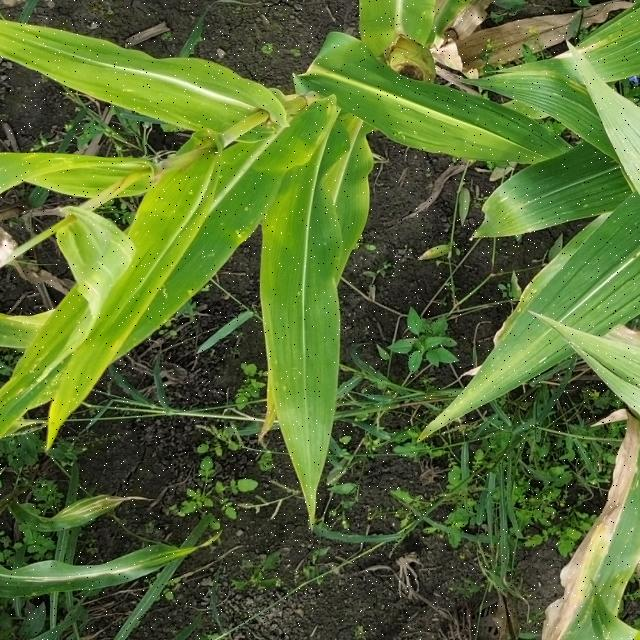gray-leaf-spot: (491, 183, 586, 233), (73, 238, 140, 302)
northern-leaf-blight: (27, 564, 147, 589)
southern-leaf-blight: (193, 165, 266, 244), (11, 352, 78, 405), (586, 570, 632, 630), (593, 21, 640, 76), (593, 211, 640, 263), (381, 116, 444, 152), (9, 310, 58, 350)
